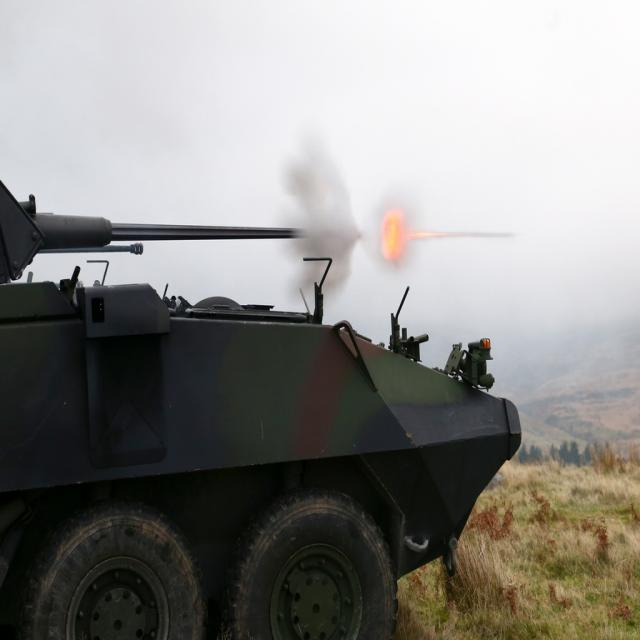tank: (0, 180, 522, 639)
